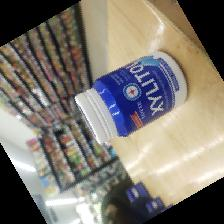Xylitol_blue: (73, 51, 191, 146)
